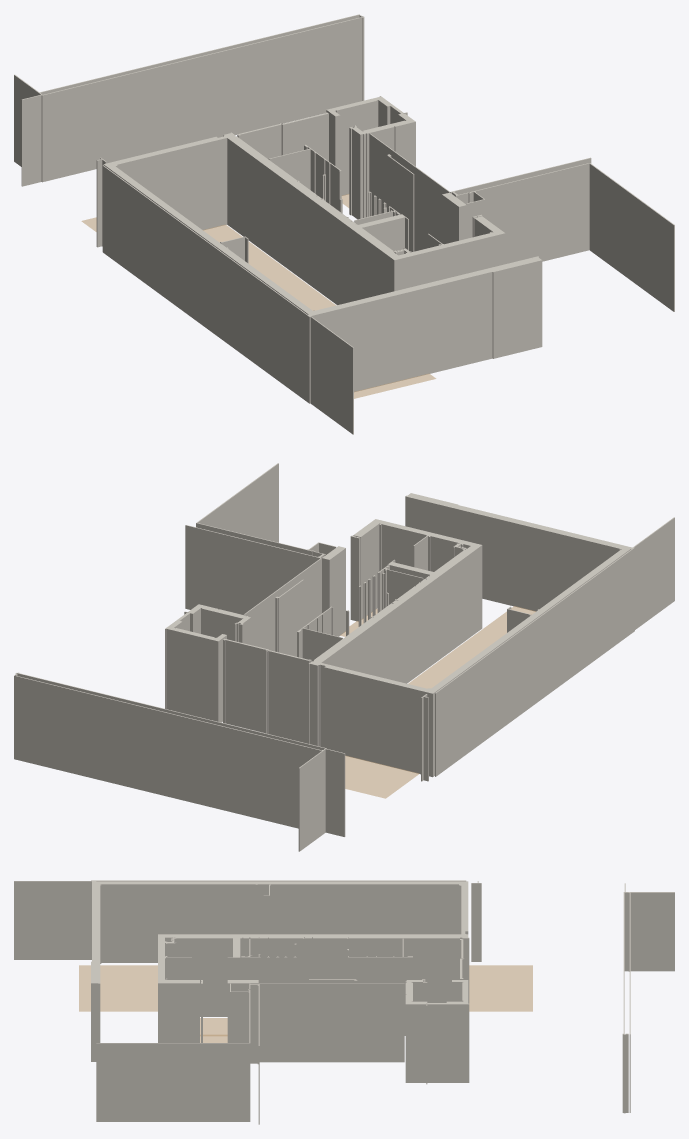
File: rf_house.glb
The picture shows the model from 3 angles, top to bottom: view 1: azimuth 30°, elevation 25°; view 2: azimuth 150°, elevation 25°; view 3: azimuth 270°, elevation 25°; orthographic projection. The views are drawn at different scales.
Visible parts, largest first — view 1: MeshStandardMaterial_1, MeshStandardMaterial_5; view 2: MeshStandardMaterial_1, MeshStandardMaterial_5; view 3: MeshStandardMaterial_1, MeshStandardMaterial_5, MeshStandardMaterial_3.
Part boxes in pixels (x1,y1,x2,y2): MeshStandardMaterial_1: (14,14,674,434); MeshStandardMaterial_5: (81,217,435,398); MeshStandardMaterial_1: (14,463,674,851); MeshStandardMaterial_5: (345,606,535,798); MeshStandardMaterial_1: (14,880,674,1124); MeshStandardMaterial_5: (79,965,532,1011); MeshStandardMaterial_3: (200,1018,227,1036).
Bounding box in the file's own units: 13.54 × 3 × 22.85.
